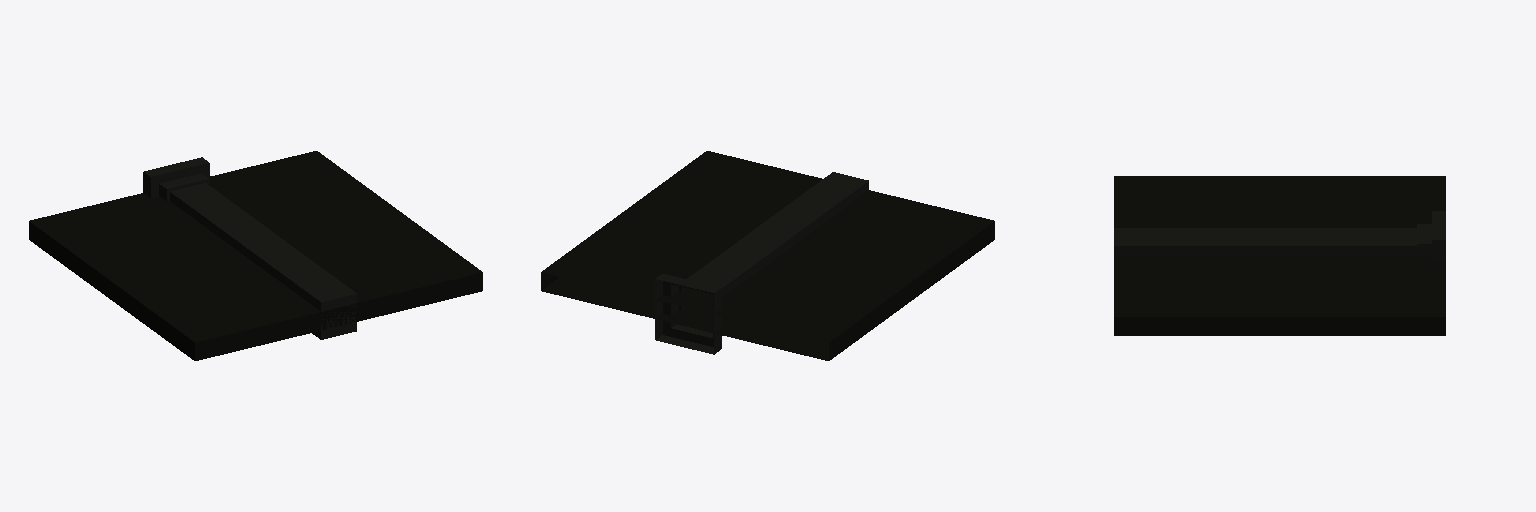
File: StoneWall001.obj
3 views of the same model, side by side, from view 1: azimuth 30°, elevation 25°; view 2: azimuth 150°, elevation 25°; view 3: azimuth 270°, elevation 25° (orthographic).
Visible parts, largest first — view 1: Box001, Box002; view 2: Box001, Box002; view 3: Box001, Box002.
Boxes of the visible parts, box(x1,y1,x2,y2) form: Box001: box(29, 151, 482, 360); Box002: box(143, 157, 356, 339); Box001: box(541, 151, 994, 360); Box002: box(655, 172, 868, 354); Box001: box(1114, 176, 1445, 335); Box002: box(1114, 211, 1445, 260).
Size of the model in its own units: 32 by 6.52 by 32.